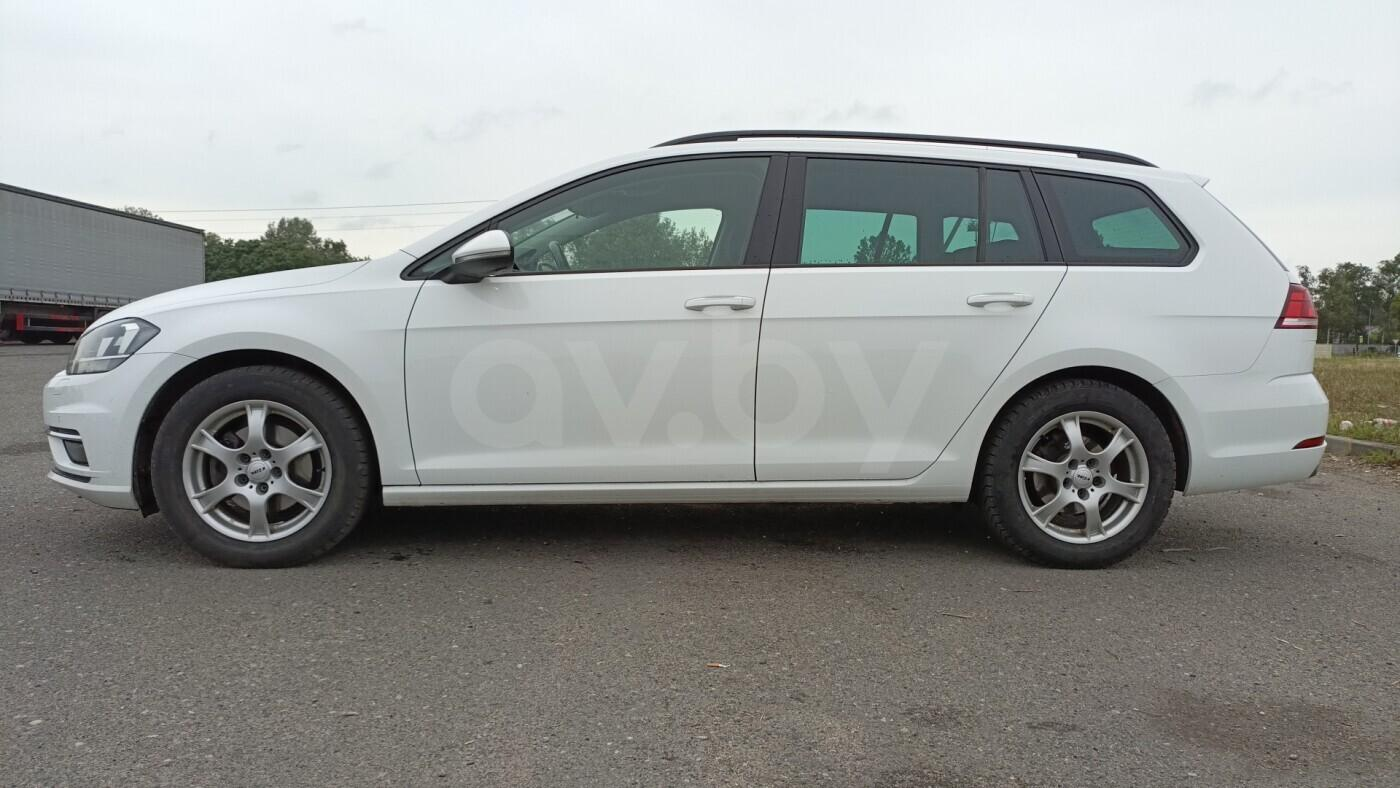Golf_2017-2021: (39, 136, 1335, 562)
